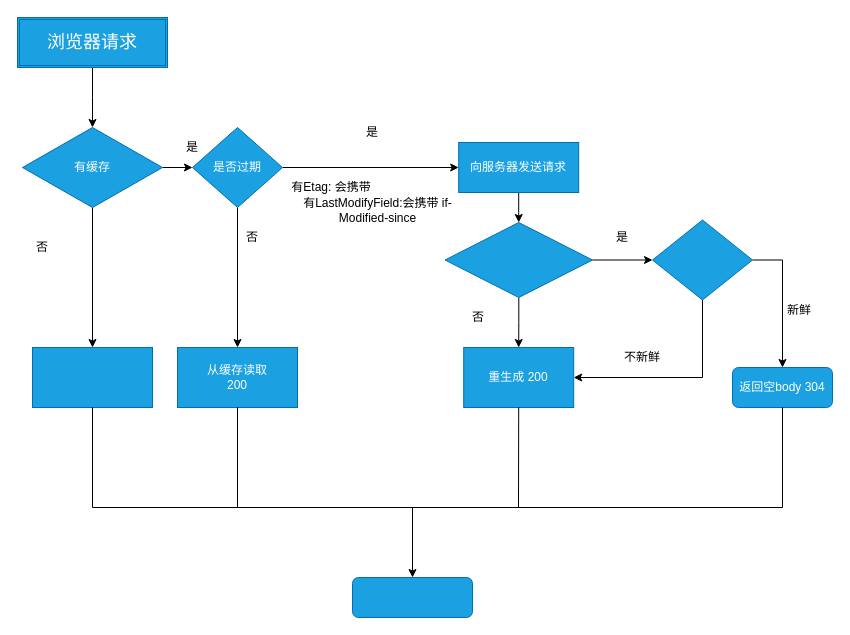
This 850x635 diagram has some shape labels left out. The centre of each missing label's shape, as x and y in pixels:
end: the point at 412,597
向服务端发送请求 200: the point at 92,377
是否有 if-None-Match 或 if-Modified-since: the point at 518,260
验证新鲜度: the point at 702,259
